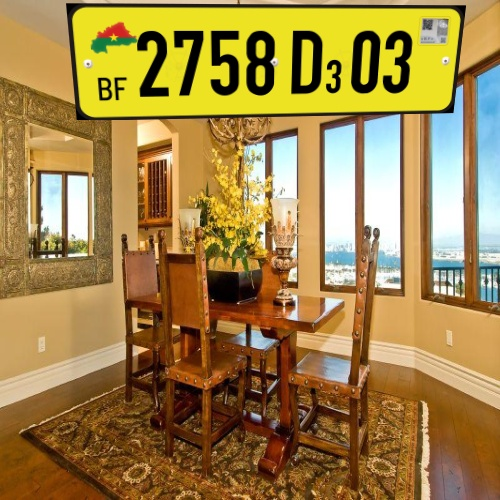plate: (62, 1, 469, 132)
